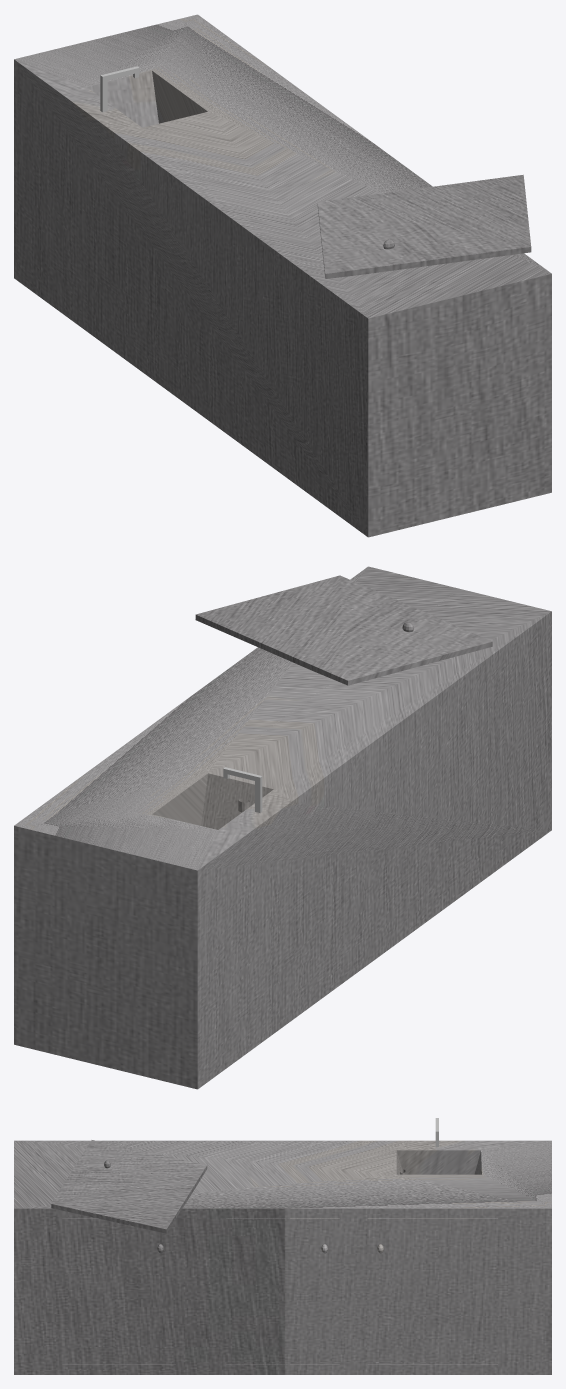
The model's file is Mobile mensa colorato obj.fbx.
3 renders of one model, top to bottom at view 1: azimuth 30°, elevation 25°; view 2: azimuth 150°, elevation 25°; view 3: azimuth 270°, elevation 25°, orthographic. The views are drawn at different scales.
Parts seen in each view (by area): view 1: Generic, Cube; view 2: Generic, Cube; view 3: Generic, Cube.
Part boxes in pixels (box(x1,y1,x2,y2)): Generic: box(14, 14, 551, 537); Cube: box(317, 174, 531, 278); Generic: box(14, 566, 551, 1089); Cube: box(195, 575, 492, 685); Generic: box(14, 1140, 551, 1374); Cube: box(51, 1140, 207, 1233).
Bounding box in the file's own units: 1.39 × 1.32 × 3.34.
2 materials, 1 textured.
